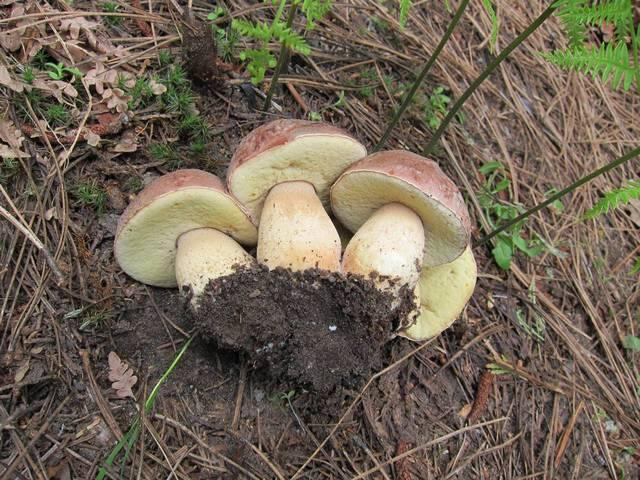Edible Mushroom: (113, 116, 478, 385), (329, 148, 477, 342), (112, 167, 257, 288), (225, 117, 367, 222), (255, 179, 342, 272)
